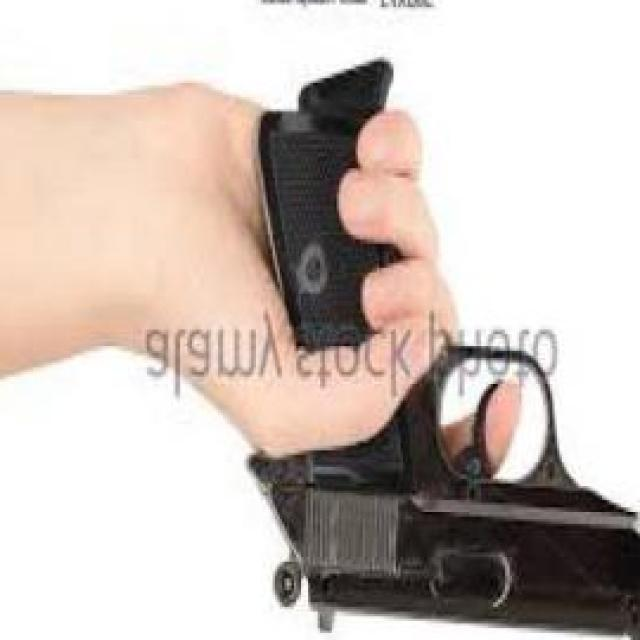pistol: (251, 81, 639, 640)
